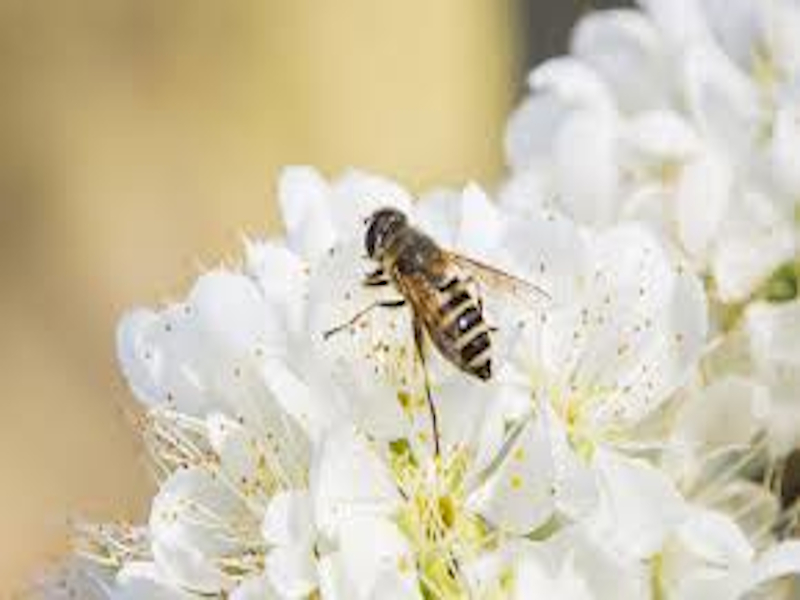abeja: (324, 192, 570, 444)
